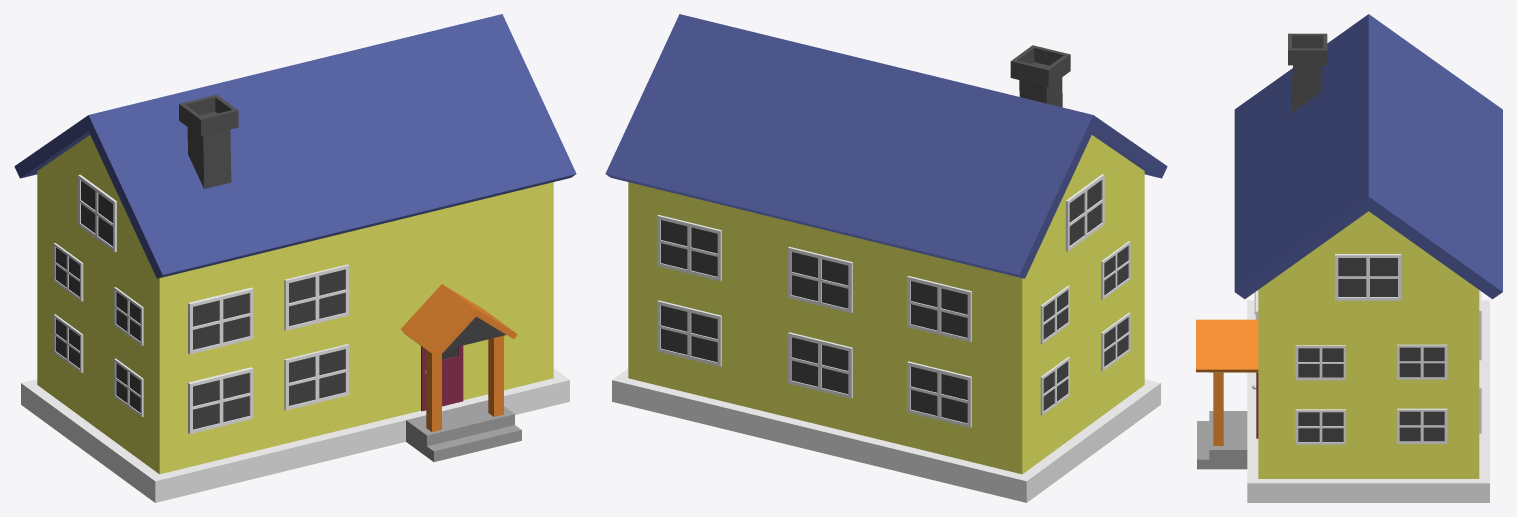
Rendered from House_5.fbx.
3 renders of one model, left to right at view 1: azimuth 30°, elevation 25°; view 2: azimuth 150°, elevation 25°; view 3: azimuth 270°, elevation 25°, orthographic. The views are drawn at different scales.
Parts seen in each view (by area): view 1: House_5; view 2: House_5; view 3: House_5.
Boxes of the visible parts, box(x1,y1,x2,y2) form: House_5: box(14, 14, 576, 502); House_5: box(605, 14, 1167, 502); House_5: box(1196, 14, 1502, 502).
Size of the model in its own units: 6.33 by 4.49 by 5.11.
